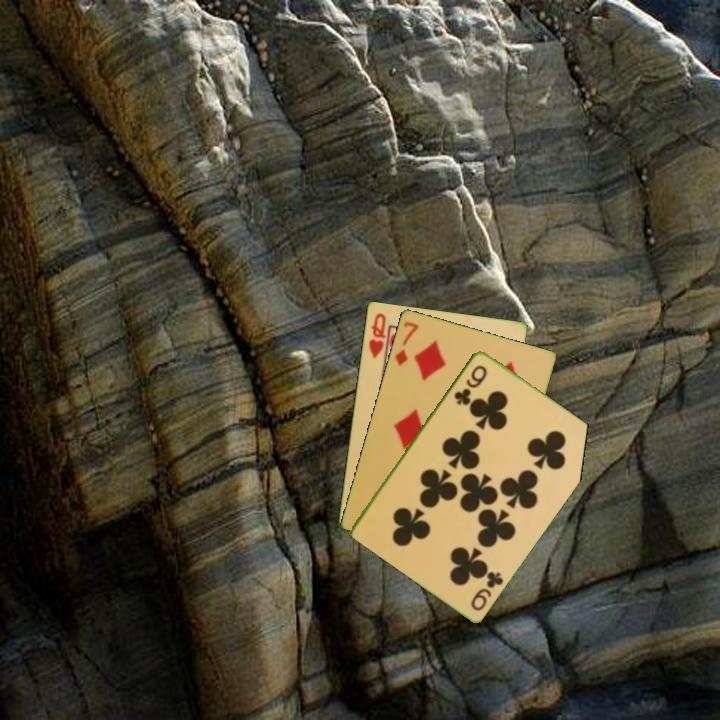7d: (391, 317, 421, 368)
9c: (450, 361, 490, 408), (467, 567, 506, 613)
Qh: (365, 309, 389, 361)
